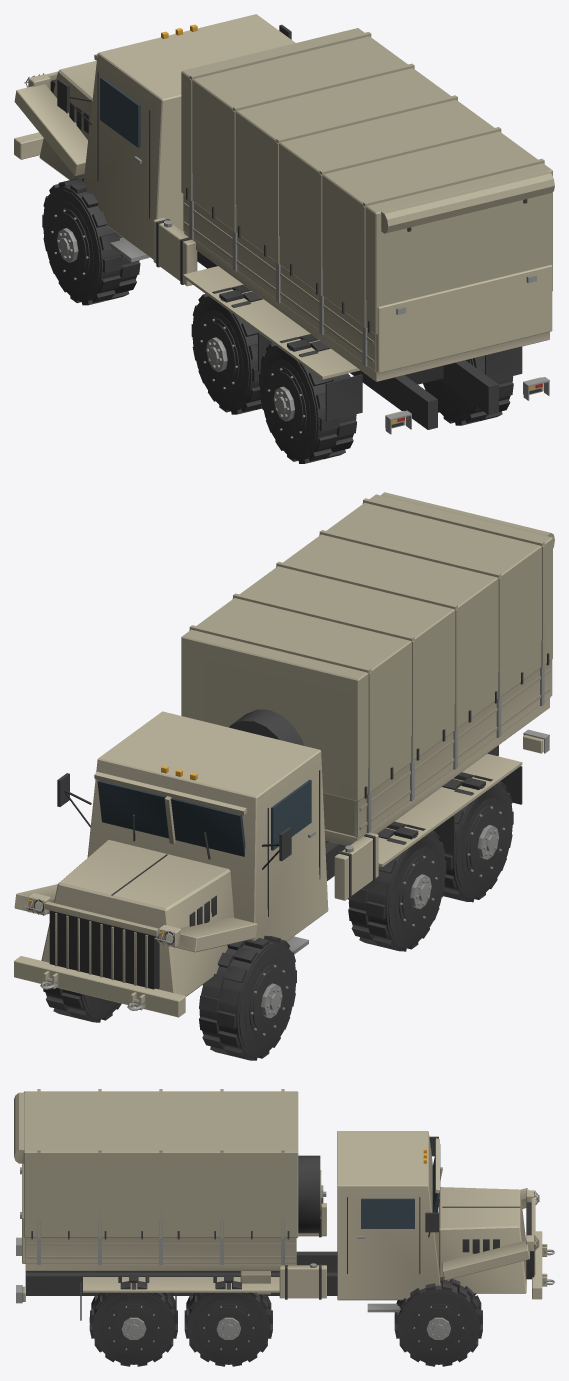
File: truck_rus.glb
The picture shows the model from 3 angles, top to bottom: view 1: azimuth 30°, elevation 25°; view 2: azimuth 150°, elevation 25°; view 3: azimuth 270°, elevation 25°; orthographic projection. The views are drawn at different scales.
Parts seen in each view (by area): view 1: body, door, wheel_0, wheel_4, wheel_2, wheel_5; view 2: body, wheel_0, wheel_2, wheel_4, wheel_1; view 3: body, wheel_1, wheel_5, wheel_3.
Part boxes in pixels (left/top/right/bottom): body: left=14, top=14, right=554, bottom=434; door: left=376, top=265, right=552, bottom=373; wheel_0: left=42, top=176, right=140, bottom=305; wheel_4: left=259, top=334, right=356, bottom=463; wheel_2: left=191, top=284, right=262, bottom=414; wheel_5: left=423, top=355, right=513, bottom=425; body: left=14, top=492, right=554, bottom=1017; wheel_0: left=199, top=935, right=296, bottom=1060; wheel_2: left=348, top=821, right=446, bottom=951; wheel_4: left=442, top=772, right=513, bottom=902; wheel_1: left=43, top=985, right=121, bottom=1022; body: left=14, top=1089, right=554, bottom=1320; wheel_1: left=394, top=1277, right=482, bottom=1366; wheel_5: left=89, top=1274, right=177, bottom=1366; wheel_3: left=184, top=1274, right=272, bottom=1366.
Bounding box in the file's own units: 2.5 × 3.23 × 7.4.
